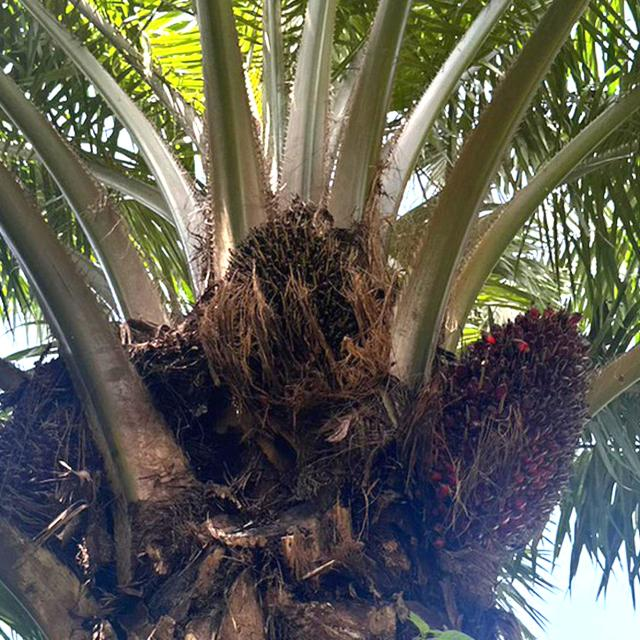unripe: (199, 190, 401, 420)
